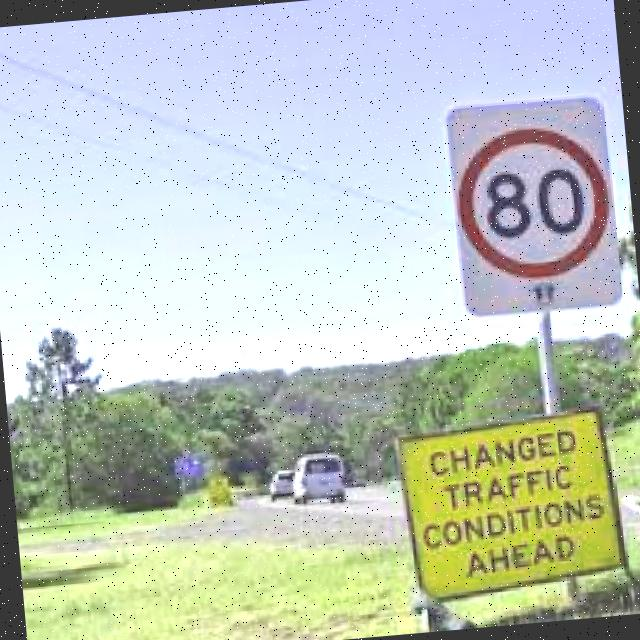Ograniczenie predkosci do 80: (450, 122, 618, 289)
